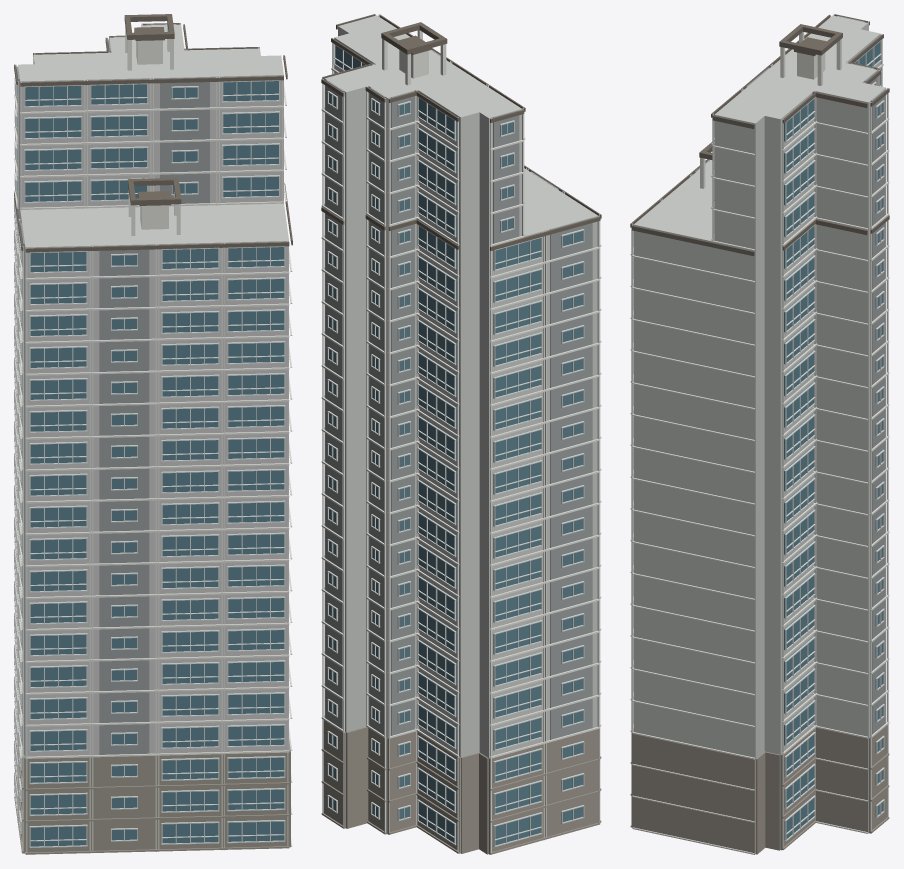
File: bespoke-banpo-xi-142.glb
The picture shows the model from 3 angles, left to right: view 1: azimuth 30°, elevation 25°; view 2: azimuth 150°, elevation 25°; view 3: azimuth 270°, elevation 25°; orthographic projection.
Parts seen in each view (by area): view 1: editable_BX142_blue_grey_broad_glazing, editable_BX142_pale_silver_limestone, editable_BX142_white_window_frames, editable_BX142_ivory_course_bands, editable_BX142_grey_service_core, editable_BX142_warm_ground_stone, editable_BX142_dark_coping; view 2: editable_BX142_pale_silver_limestone, editable_BX142_grey_service_core, editable_BX142_blue_grey_broad_glazing, editable_BX142_white_window_frames, editable_BX142_ivory_course_bands, editable_BX142_warm_ground_stone, editable_BX142_dark_coping; view 3: editable_BX142_pale_silver_limestone, editable_BX142_warm_ground_stone, editable_BX142_ivory_course_bands, editable_BX142_blue_grey_broad_glazing, editable_BX142_white_window_frames, editable_BX142_grey_service_core, editable_BX142_dark_coping.
Boxes of the visible parts, x1,y1,x2,y2 form: editable_BX142_blue_grey_broad_glazing: [17, 81, 284, 846]; editable_BX142_pale_silver_limestone: [18, 24, 288, 851]; editable_BX142_white_window_frames: [14, 50, 285, 847]; editable_BX142_ivory_course_bands: [14, 23, 292, 854]; editable_BX142_grey_service_core: [16, 24, 209, 755]; editable_BX142_warm_ground_stone: [14, 733, 290, 854]; editable_BX142_dark_coping: [14, 14, 292, 252]; editable_BX142_pale_silver_limestone: [324, 15, 598, 853]; editable_BX142_grey_service_core: [325, 50, 592, 739]; editable_BX142_blue_grey_broad_glazing: [329, 45, 582, 845]; editable_BX142_white_window_frames: [327, 44, 584, 847]; editable_BX142_ivory_course_bands: [321, 15, 601, 854]; editable_BX142_warm_ground_stone: [321, 720, 601, 854]; editable_BX142_dark_coping: [321, 14, 601, 250]; editable_BX142_pale_silver_limestone: [633, 15, 886, 853]; editable_BX142_warm_ground_stone: [630, 725, 889, 854]; editable_BX142_ivory_course_bands: [630, 14, 889, 854]; editable_BX142_blue_grey_broad_glazing: [784, 42, 883, 839]; editable_BX142_white_window_frames: [633, 40, 884, 841]; editable_BX142_grey_service_core: [694, 15, 885, 734]; editable_BX142_dark_coping: [630, 14, 889, 256].
Bounding box in the file's own units: 23.12 × 64.5 × 19.8.
